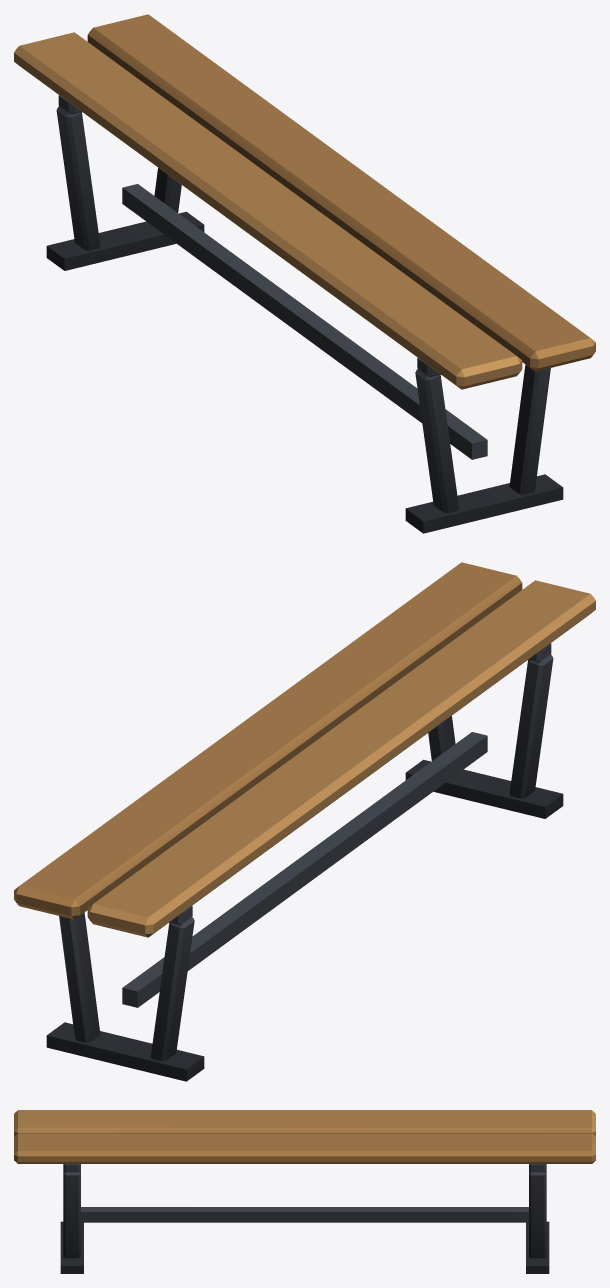
File: bench.glb
3 renders of one model, top to bottom at view 1: azimuth 30°, elevation 25°; view 2: azimuth 150°, elevation 25°; view 3: azimuth 270°, elevation 25°, orthographic. The views are drawn at different scales.
Visible parts, largest first — view 1: Body; view 2: Body; view 3: Body.
Boxes of the visible parts, x1,y1,x2,y2 form: Body: [14, 14, 595, 533]; Body: [14, 562, 595, 1081]; Body: [14, 1110, 595, 1273].
Size of the model in its own units: 0.36 by 0.46 by 2.
